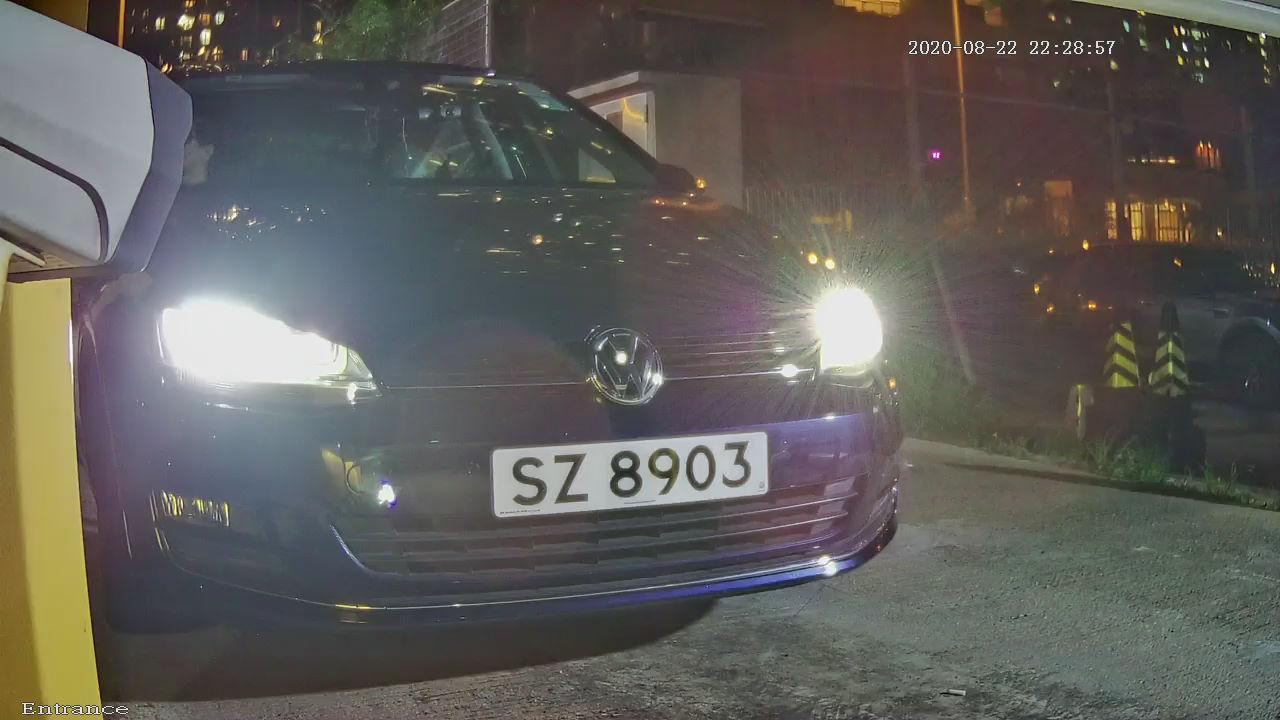Car: (12, 7, 966, 688)
License Plate: (475, 425, 778, 521)
